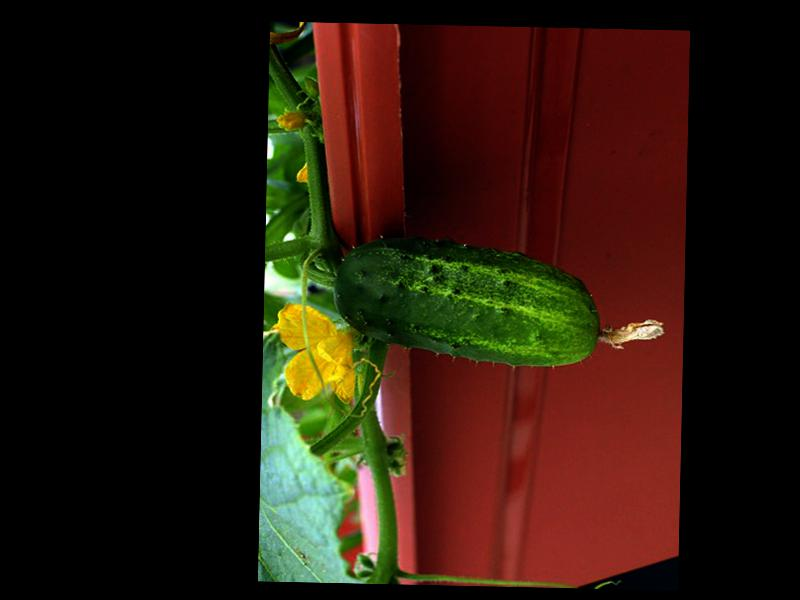Cucumber: (331, 236, 668, 370)
